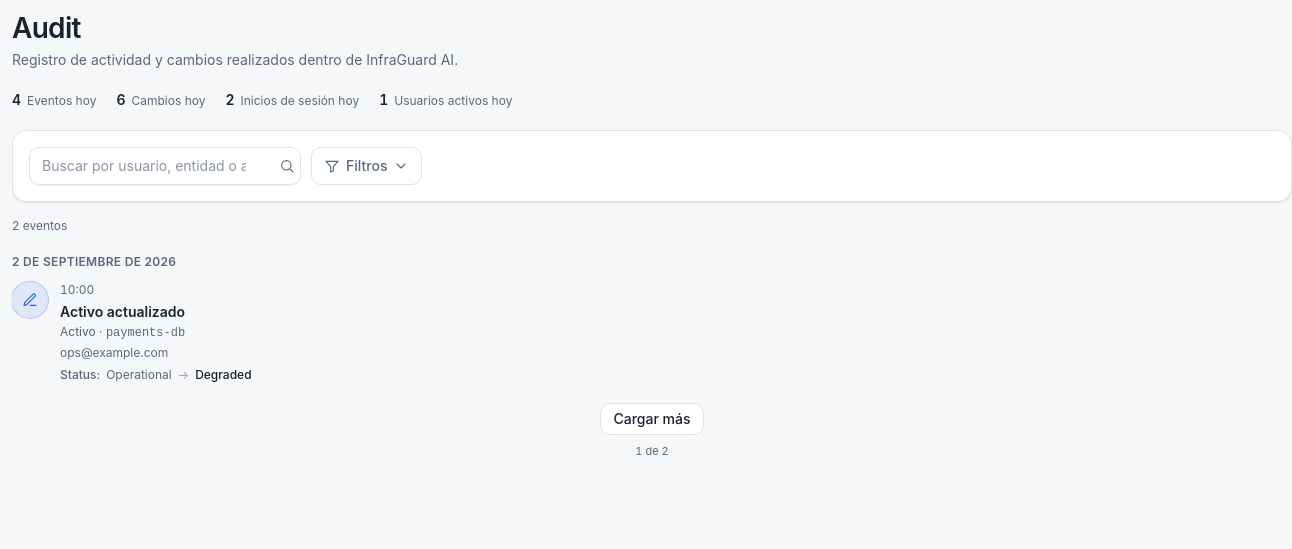
Scenario: AuditBrowser (timeline) › appends the next server page with 'Cargar más' and de-duplicates by id
expect the text "payments-db" is shown: met, box [106, 326, 185, 340]
Click the button "Cargar más".
click(652, 419)  # box [600, 403, 704, 435]
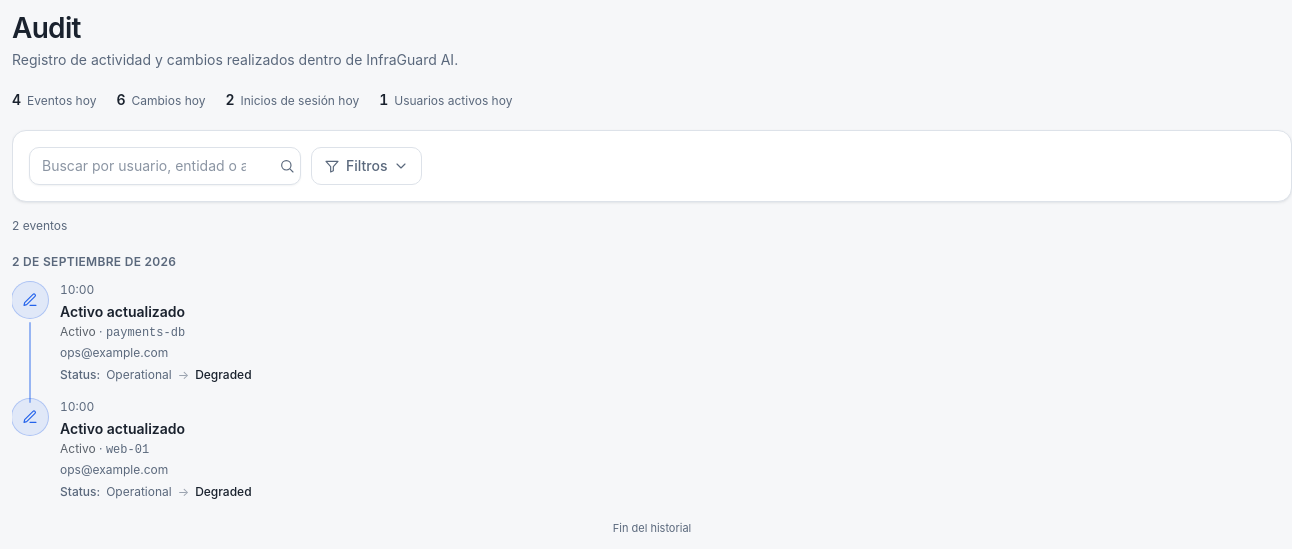
expect the text "payments-db" is shown once: met, box [106, 326, 185, 340]
expect the text "web-01" is shown: met, box [106, 443, 149, 457]
